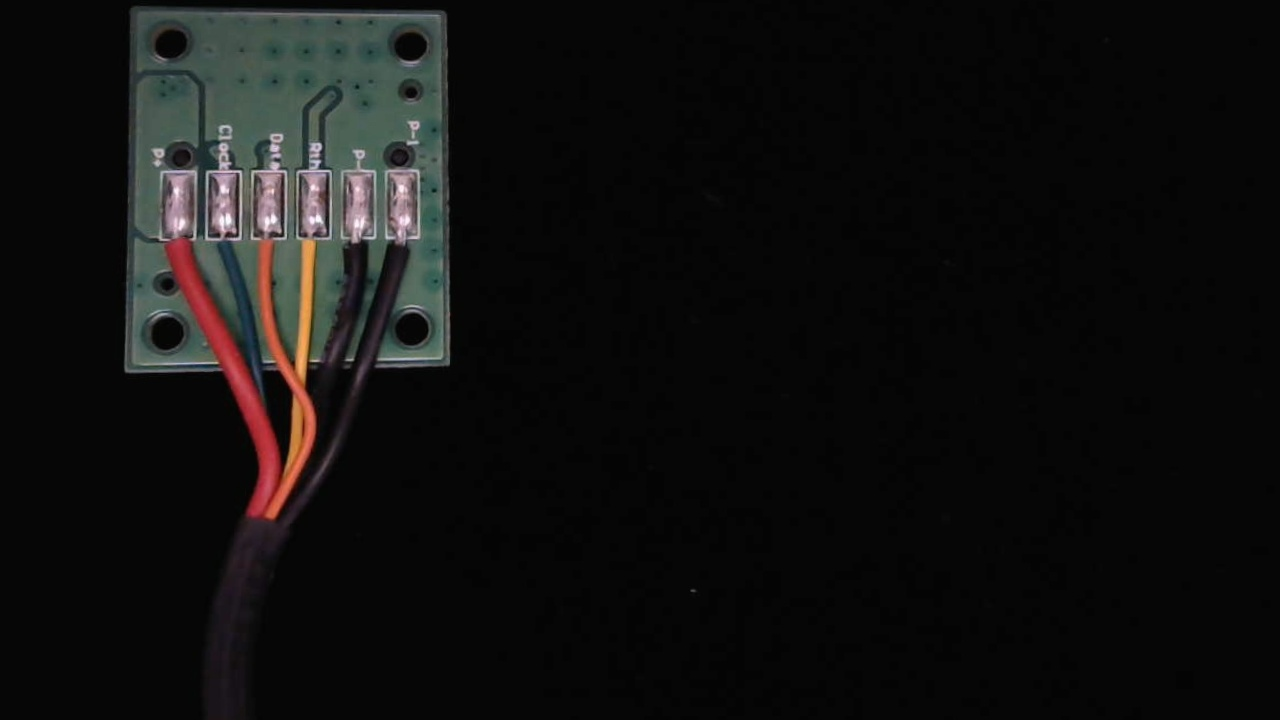Black: (337, 221, 377, 289)
Black1: (382, 220, 421, 293)
Green: (202, 220, 243, 285)
Orange: (248, 223, 288, 292)
Red: (155, 224, 198, 300)
Yellow: (291, 220, 329, 291)
